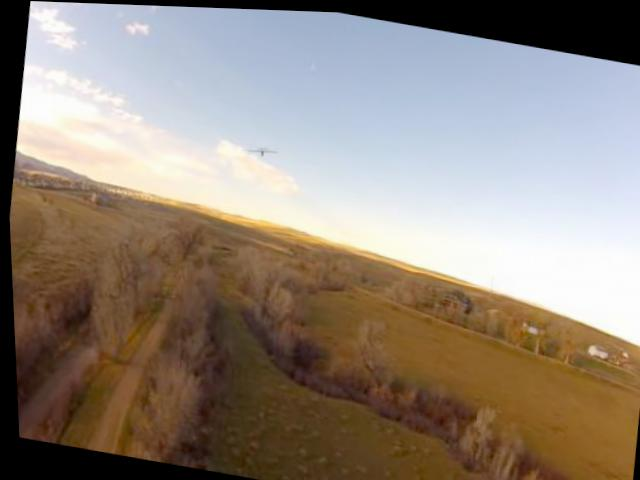uav: (245, 137, 278, 159)
